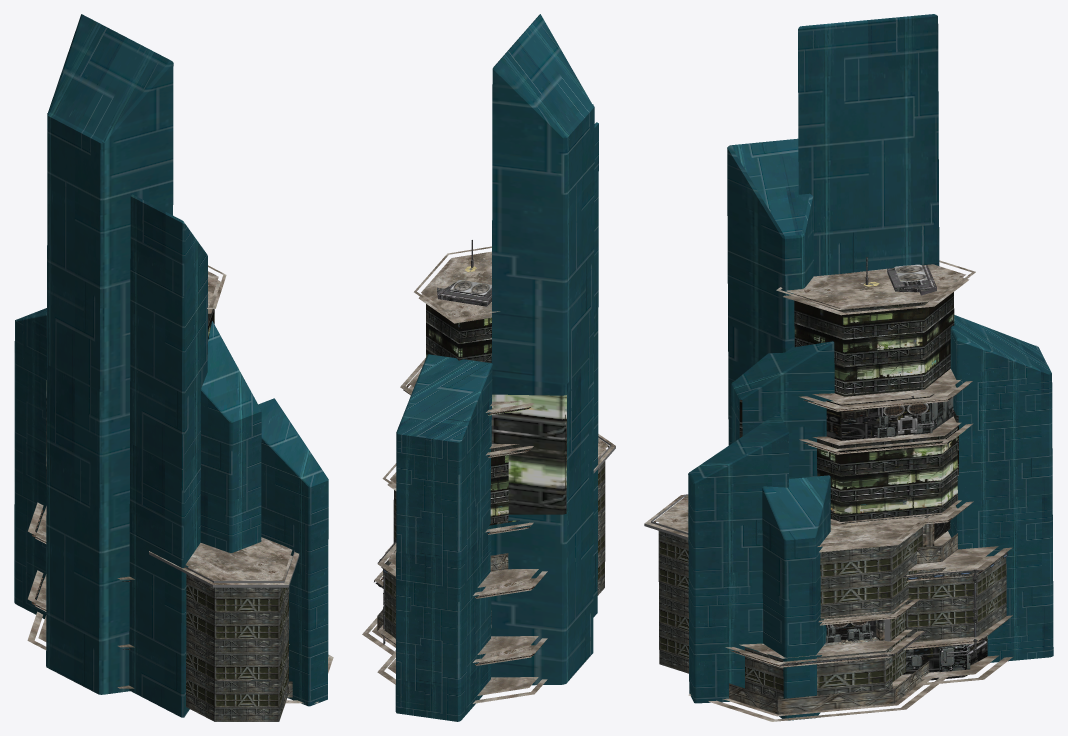
File: site_01.glb
3 views of the same model, side by side, from view 1: azimuth 30°, elevation 25°; view 2: azimuth 150°, elevation 25°; view 3: azimuth 270°, elevation 25° (orthographic).
Visible parts, largest first — view 1: CHR_1B.207_mat_77.003_0, CHR_1B.213_mat_81.003_0, CHR_1B.341_mat_108.002_0, CHR_1B.992_mat_153.001_0, CHR_1B.198_mat_72.003_0; view 2: CHR_1B.207_mat_77.003_0, CHR_1B.252_mat_85.003_0, CHR_1B.341_mat_108.002_0, CHR_1B.213_mat_81.003_0, CHR_1B.351_mat_112.002_0, CHR_1B.992_mat_153.001_0, CHR_1B.367_mat_116.002_0, CHR_1B.356_mat_114.002_0, CHR_1B.211_mat_79.003_0; view 3: CHR_1B.207_mat_77.003_0, CHR_1B.252_mat_85.003_0, CHR_1B.341_mat_108.002_0, CHR_1B.213_mat_81.003_0, CHR_1B.992_mat_153.001_0, CHR_1B.211_mat_79.003_0, CHR_1B.299_mat_104.002_0, CHR_1B.288_mat_102.002_0, CHR_1B.351_mat_112.002_0, CHR_1B.367_mat_116.002_0, CHR_1B.198_mat_72.003_0, CHR_1B.356_mat_114.002_0.
Boxes of the visible parts, x1,y1,x2,y2 form: CHR_1B.207_mat_77.003_0: [14, 14, 328, 717]; CHR_1B.213_mat_81.003_0: [186, 574, 289, 721]; CHR_1B.341_mat_108.002_0: [27, 265, 333, 703]; CHR_1B.992_mat_153.001_0: [186, 583, 288, 707]; CHR_1B.198_mat_72.003_0: [149, 550, 299, 587]; CHR_1B.207_mat_77.003_0: [395, 14, 598, 721]; CHR_1B.252_mat_85.003_0: [426, 304, 566, 525]; CHR_1B.341_mat_108.002_0: [362, 246, 615, 703]; CHR_1B.213_mat_81.003_0: [384, 461, 605, 638]; CHR_1B.351_mat_112.002_0: [374, 240, 491, 644]; CHR_1B.992_mat_153.001_0: [384, 466, 605, 625]; CHR_1B.367_mat_116.002_0: [380, 384, 609, 664]; CHR_1B.356_mat_114.002_0: [450, 280, 491, 294]; CHR_1B.211_mat_79.003_0: [377, 553, 508, 630]; CHR_1B.207_mat_77.003_0: [688, 14, 1053, 720]; CHR_1B.252_mat_85.003_0: [677, 292, 965, 631]; CHR_1B.341_mat_108.002_0: [644, 260, 1012, 721]; CHR_1B.213_mat_81.003_0: [658, 527, 1006, 699]; CHR_1B.992_mat_153.001_0: [658, 533, 1006, 691]; CHR_1B.211_mat_79.003_0: [729, 515, 957, 714]; CHR_1B.299_mat_104.002_0: [826, 396, 989, 680]; CHR_1B.288_mat_102.002_0: [826, 394, 970, 672]; CHR_1B.351_mat_112.002_0: [670, 257, 982, 665]; CHR_1B.367_mat_116.002_0: [653, 384, 1007, 666]; CHR_1B.198_mat_72.003_0: [644, 416, 917, 641]; CHR_1B.356_mat_114.002_0: [831, 264, 928, 627].
Bounding box in the file's own units: 70.05 × 189 × 111.
Materials: 15 (15 with a texture image).
